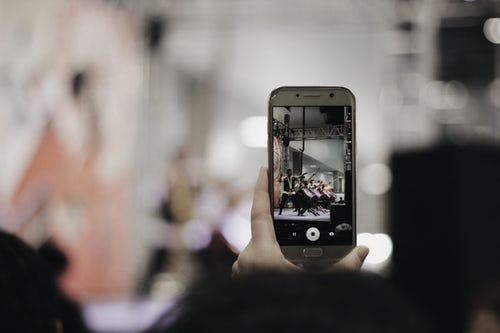phone: (263, 84, 360, 267)
